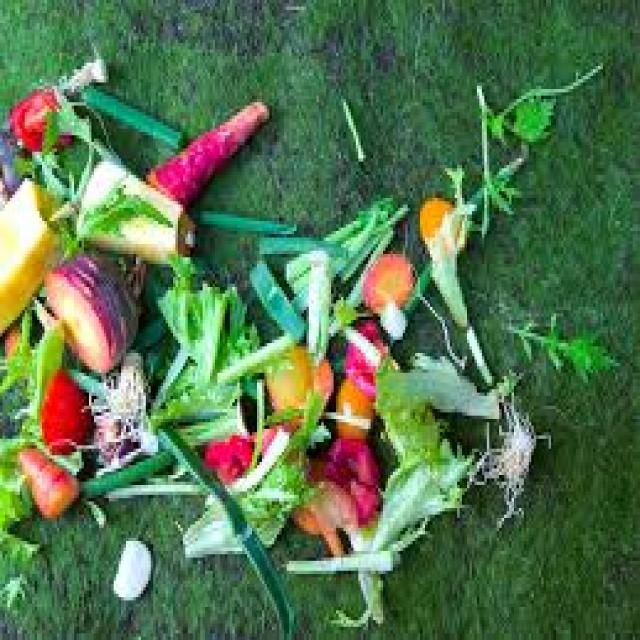food_waste: (16, 301, 507, 489), (16, 110, 226, 492)
